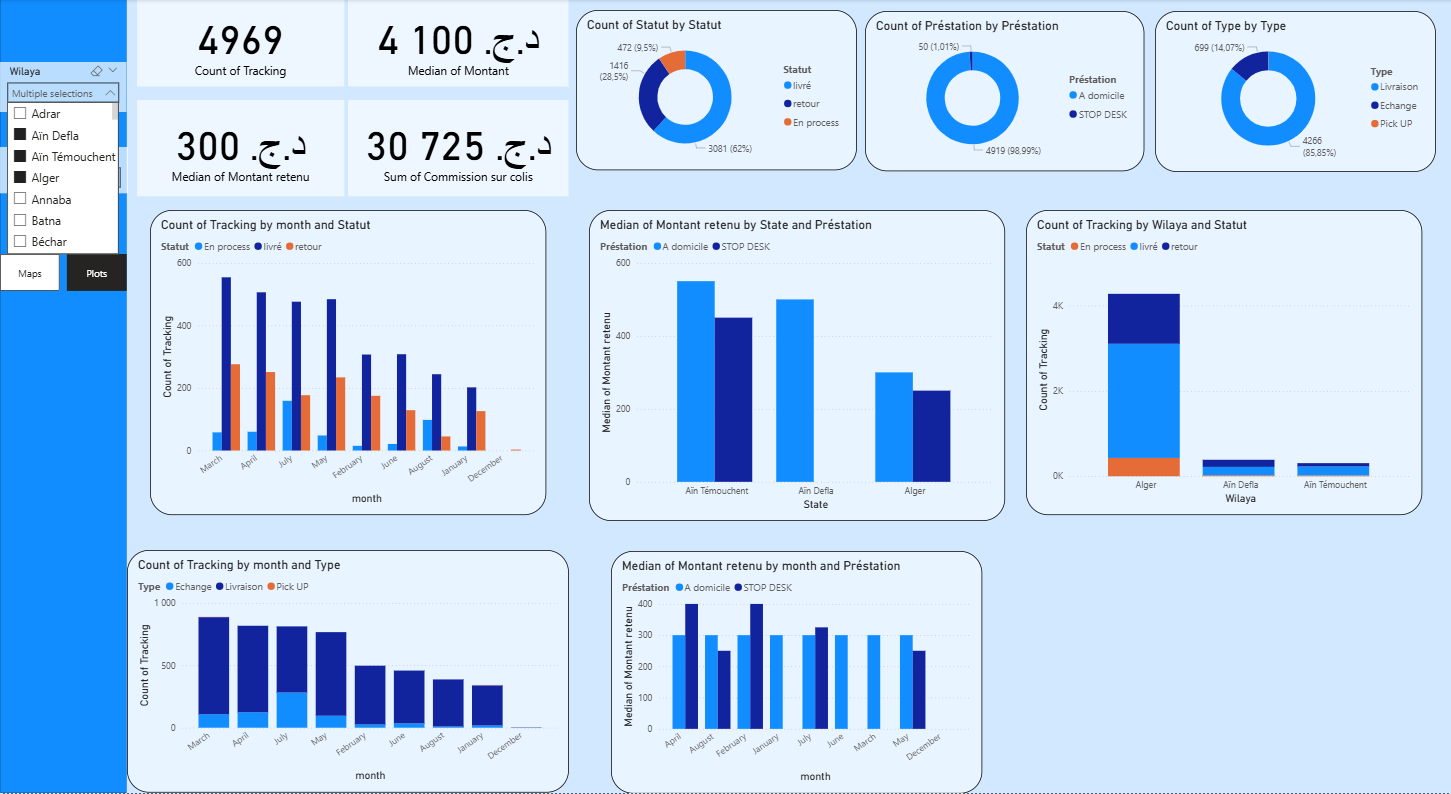

The dashboard page shown, as its layout file describes it:
{"tool":"powerbi","page":{"name":"Page 1","canvas":[1980,1080],"ordinal":0},"visuals":[{"type":"shape","box":[0,0,172.4,1080.1],"z":0},{"type":"donutChart","fields":{"Y":["CountNonNull(filtered_data.Type)"],"Category":["filtered_data.Type"]},"box":[1570.6,16.7,382,219.2],"z":1000},{"type":"donutChart","fields":{"Y":["CountNonNull(filtered_data.Statut)"],"Category":["filtered_data.Statut"]},"box":[783.8,15.2,382,217.6],"z":2000},{"type":"columnChart","fields":{"Category":["filtered_data.Wilaya"],"Y":["CountNonNull(filtered_data.Tracking)"],"Series":["filtered_data.Statut"]},"box":[1395.6,287.6,538.8,415.5],"z":3000},{"type":"slicer","fields":{"Values":["filtered_data.Wilaya"]},"box":[0,85.5,172.4,67.8],"z":4000},{"type":"card","fields":{"Values":["Median(filtered_data.Montant)"]},"box":[473.3,0,299.8,118.7],"z":5000},{"type":"card","fields":{"Values":["Median(filtered_data.Montant retenu)"]},"box":[185.7,137,281.6,130.9],"z":6000},{"type":"columnChart","fields":{"Category":["filtered_date.month"],"Y":["CountNonNull(filtered_date.Tracking)"],"Series":["filtered_date.Type"]},"box":[172.4,750,601.2,330.1],"z":7000},{"type":"donutChart","fields":{"Category":["filtered_date.Préstation"],"Y":["CountNonNull(filtered_date.Préstation)"]},"box":[1176.4,16.7,380.5,217.6],"z":8000},{"type":"slicer","fields":{"Values":["filtered_date.month"]},"box":[0,201.9,173.9,63.4],"z":9000},{"type":"card","fields":{"Values":["Count(filtered_data.Tracking)"]},"box":[185.7,0,281.6,118.7],"z":10000},{"type":"clusteredColumnChart","fields":{"Category":["filtered_date.month"],"Series":["filtered_date.Préstation"],"Y":["Median(filtered_date.Montant retenu)"]},"box":[831,750.3,505.3,330.3],"z":11000},{"type":"card","fields":{"Values":["Sum(filtered_date.Commission sur colis)"]},"box":[473.3,137,299.8,130.9],"z":12000},{"type":"clusteredColumnChart","fields":{"Y":["CountNonNull(filtered_date.Tracking)"],"Category":["filtered_date.month"],"Series":["filtered_date.Statut"]},"box":[203.9,287.6,538.8,415.5],"z":13000},{"type":"clusteredColumnChart","fields":{"Category":["filtered_date.State"],"Series":["filtered_date.Préstation"],"Y":["Median(filtered_date.Montant retenu)"]},"box":[800.5,287.6,566.1,423.1],"z":14000},{"type":"bookmarkNavigator","box":[0,346.3,172.4,50.1],"z":15000}]}

Visuals, with their boxes on the page's 1980x1080 design canvas (x1, y1, x2, y2). These are canvas units, not pixel positions in the 1451x794 screenshot, which may show the page scaled, cropped or inside an application window:
shape: (0, 0, 172, 1080)
donutChart - CountNonNull(filtered_data.Type) x filtered_data.Type: (1571, 17, 1953, 236)
donutChart - CountNonNull(filtered_data.Statut) x filtered_data.Statut: (784, 15, 1166, 233)
columnChart - filtered_data.Wilaya x CountNonNull(filtered_data.Tracking): (1396, 288, 1934, 703)
slicer - filtered_data.Wilaya: (0, 86, 172, 153)
card - Median(filtered_data.Montant): (473, 0, 773, 119)
card - Median(filtered_data.Montant retenu): (186, 137, 467, 268)
columnChart - filtered_date.month x CountNonNull(filtered_date.Tracking): (172, 750, 774, 1080)
donutChart - filtered_date.Préstation x CountNonNull(filtered_date.Préstation): (1176, 17, 1557, 234)
slicer - filtered_date.month: (0, 202, 174, 265)
card - Count(filtered_data.Tracking): (186, 0, 467, 119)
clusteredColumnChart - filtered_date.month x filtered_date.Préstation: (831, 750, 1336, 1081)
card - Sum(filtered_date.Commission sur colis): (473, 137, 773, 268)
clusteredColumnChart - CountNonNull(filtered_date.Tracking) x filtered_date.month: (204, 288, 743, 703)
clusteredColumnChart - filtered_date.State x filtered_date.Préstation: (800, 288, 1367, 711)
bookmarkNavigator: (0, 346, 172, 396)
